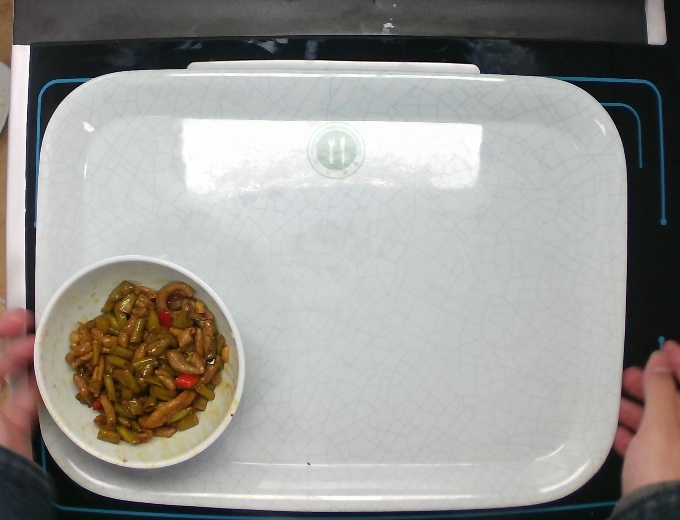JYsf-Fan_Wan: (33, 241, 255, 481)
